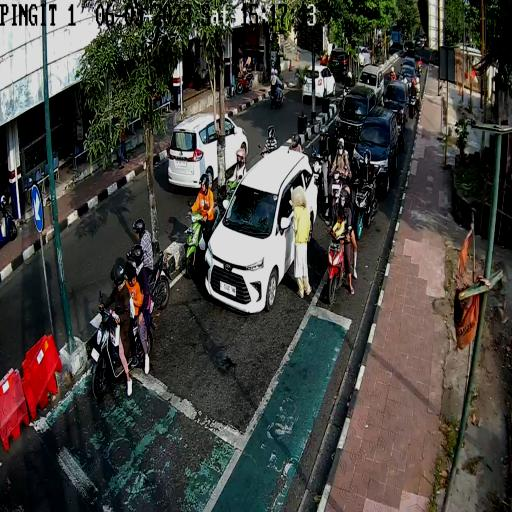mobil: (205, 142, 315, 314), (168, 104, 250, 182), (350, 105, 399, 196), (334, 86, 376, 144), (384, 78, 409, 127), (358, 64, 384, 110)
motor: (91, 304, 155, 401), (326, 220, 356, 305), (183, 200, 211, 284), (141, 248, 174, 311), (353, 173, 377, 238), (310, 146, 332, 207), (222, 168, 244, 224), (330, 166, 346, 221), (270, 82, 284, 109), (409, 94, 418, 120)
